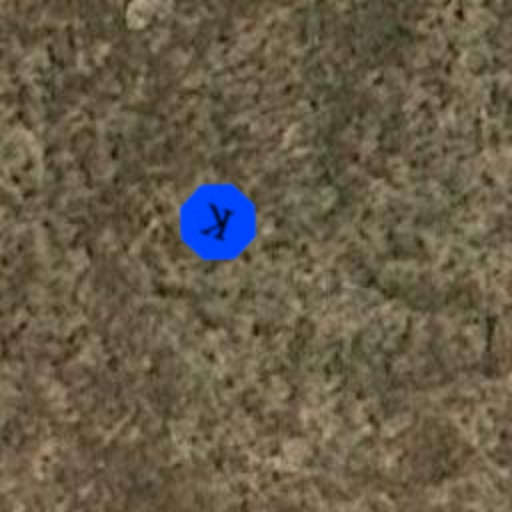octagon: (164, 168, 272, 276)
